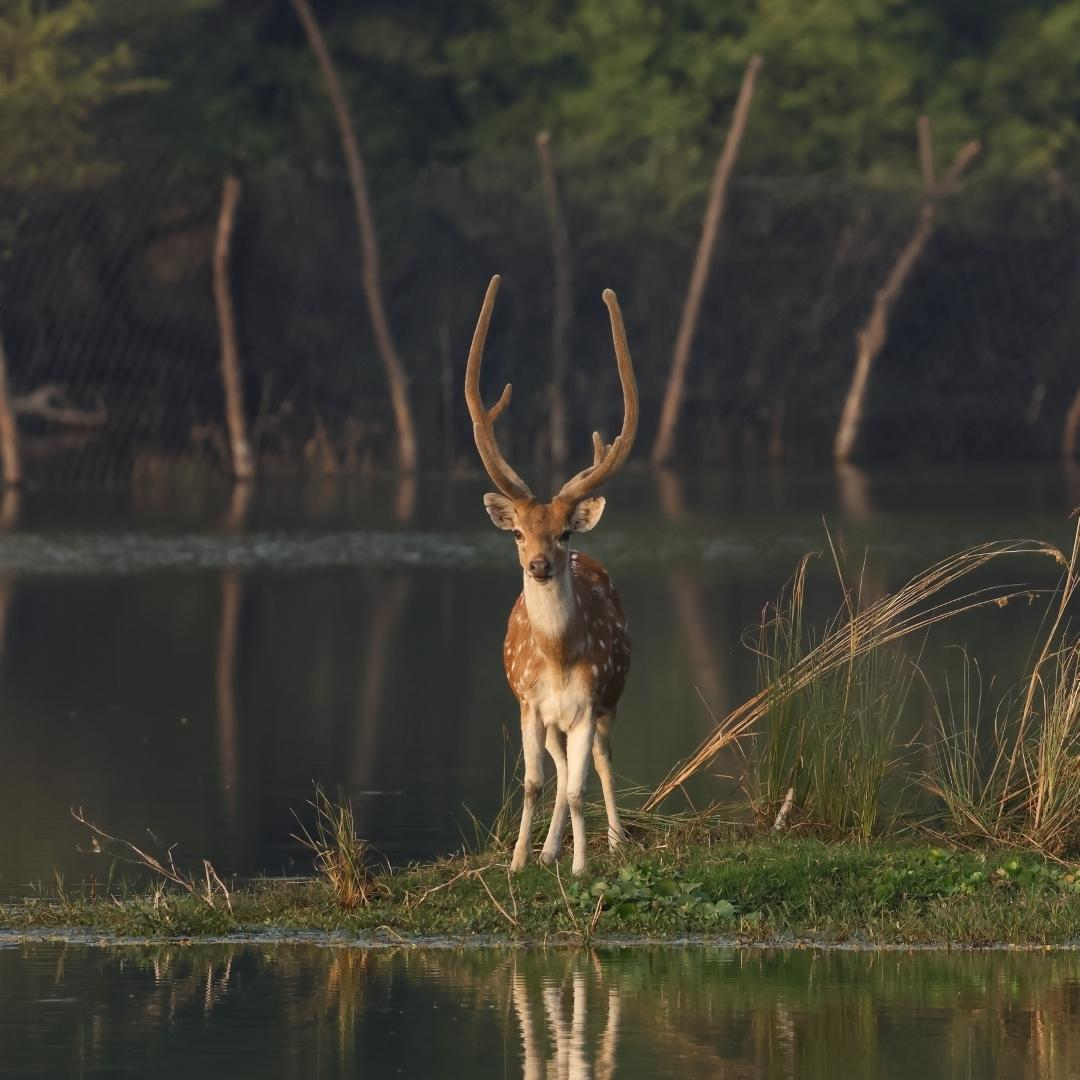Deer: (465, 278, 637, 874)
